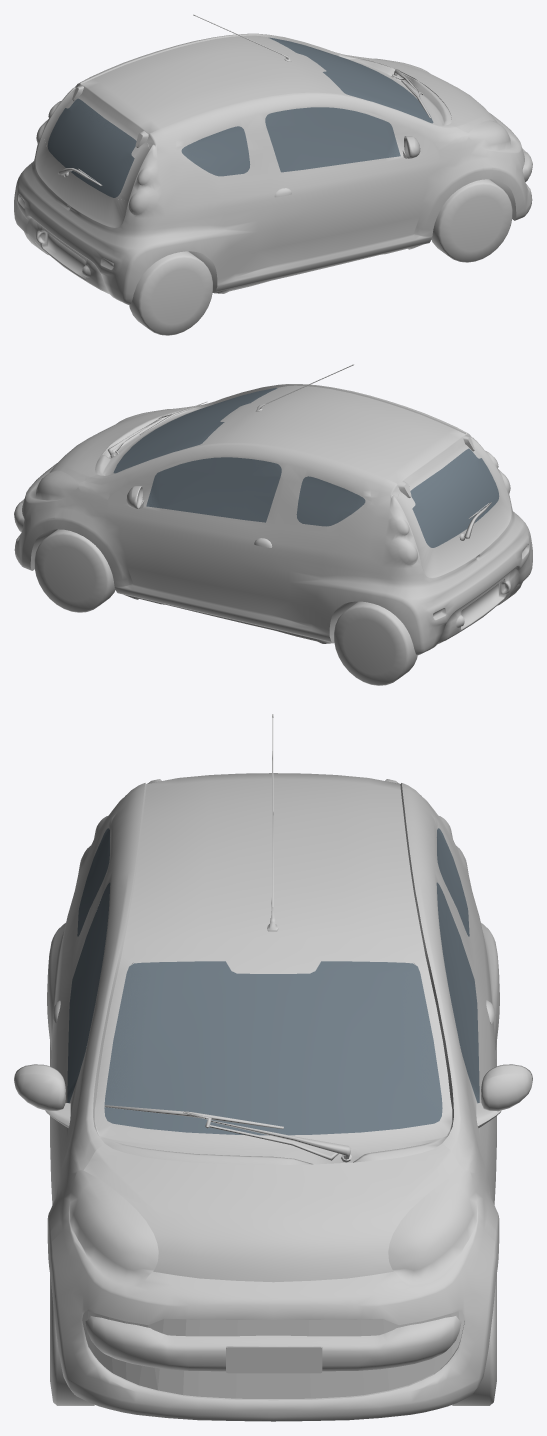
Rendered from Car with Interior 8.FBX.
3 renders of one model, top to bottom at view 1: azimuth 30°, elevation 25°; view 2: azimuth 150°, elevation 25°; view 3: azimuth 270°, elevation 25°, orthographic. The views are drawn at different scales.
Parts seen in each view (by area): view 1: Car with Interior 8, Car with Interior 8_Wheel_BL, Car with Interior 8_Wheel_FL; view 2: Car with Interior 8, Car with Interior 8_Wheel_BR, Car with Interior 8_Wheel_FR; view 3: Car with Interior 8, Car with Interior 8_Wheel_FL, Car with Interior 8_Wheel_FR.
Part boxes in pixels (<box>): Car with Interior 8: <box>14,14,532,304</box>; Car with Interior 8_Wheel_BL: <box>129,251,212,335</box>; Car with Interior 8_Wheel_FL: <box>431,179,512,262</box>; Car with Interior 8: <box>14,364,532,655</box>; Car with Interior 8_Wheel_BR: <box>334,601,417,685</box>; Car with Interior 8_Wheel_FR: <box>34,529,115,612</box>; Car with Interior 8: <box>14,714,532,1421</box>; Car with Interior 8_Wheel_FL: <box>50,1274,94,1405</box>; Car with Interior 8_Wheel_FR: <box>452,1274,496,1405</box>.
Bounding box in the file's own units: 3.43 × 1.92 × 1.88.
